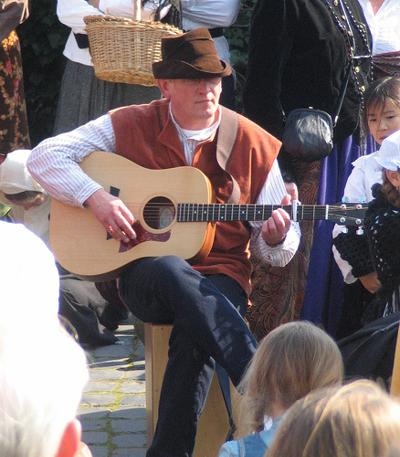person: (27, 29, 303, 457)
